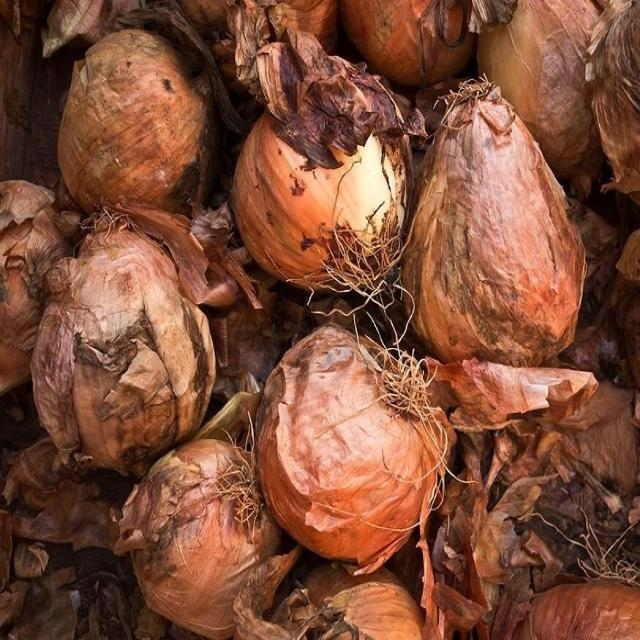Onion: (408, 74, 587, 368), (420, 346, 598, 640), (230, 35, 406, 311), (256, 317, 453, 561), (33, 220, 219, 461), (54, 30, 221, 236), (125, 435, 282, 627), (0, 430, 124, 640), (474, 0, 602, 183), (0, 166, 64, 412), (176, 0, 341, 93), (578, 0, 640, 214), (340, 0, 467, 93), (271, 571, 440, 640), (502, 562, 640, 640)
